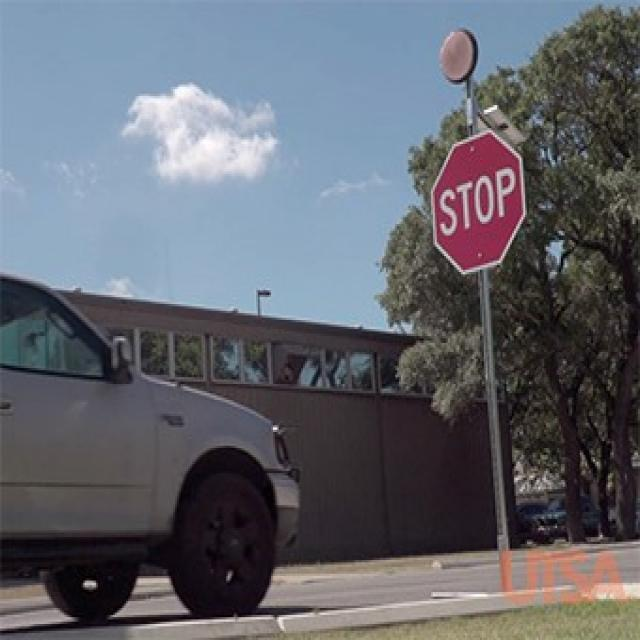stop: (430, 130, 526, 270)
